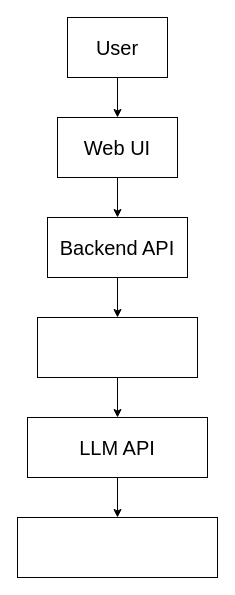
Some shapes in this 235 by 595 pixel diagram are drawn without their labels. The shapes that lost their labels are listed below. From the top down, each one's centre as x and y in pixels, then its label:
At pixel 117 347: "Retriever".
At pixel 117 547: "Response + Sources".
